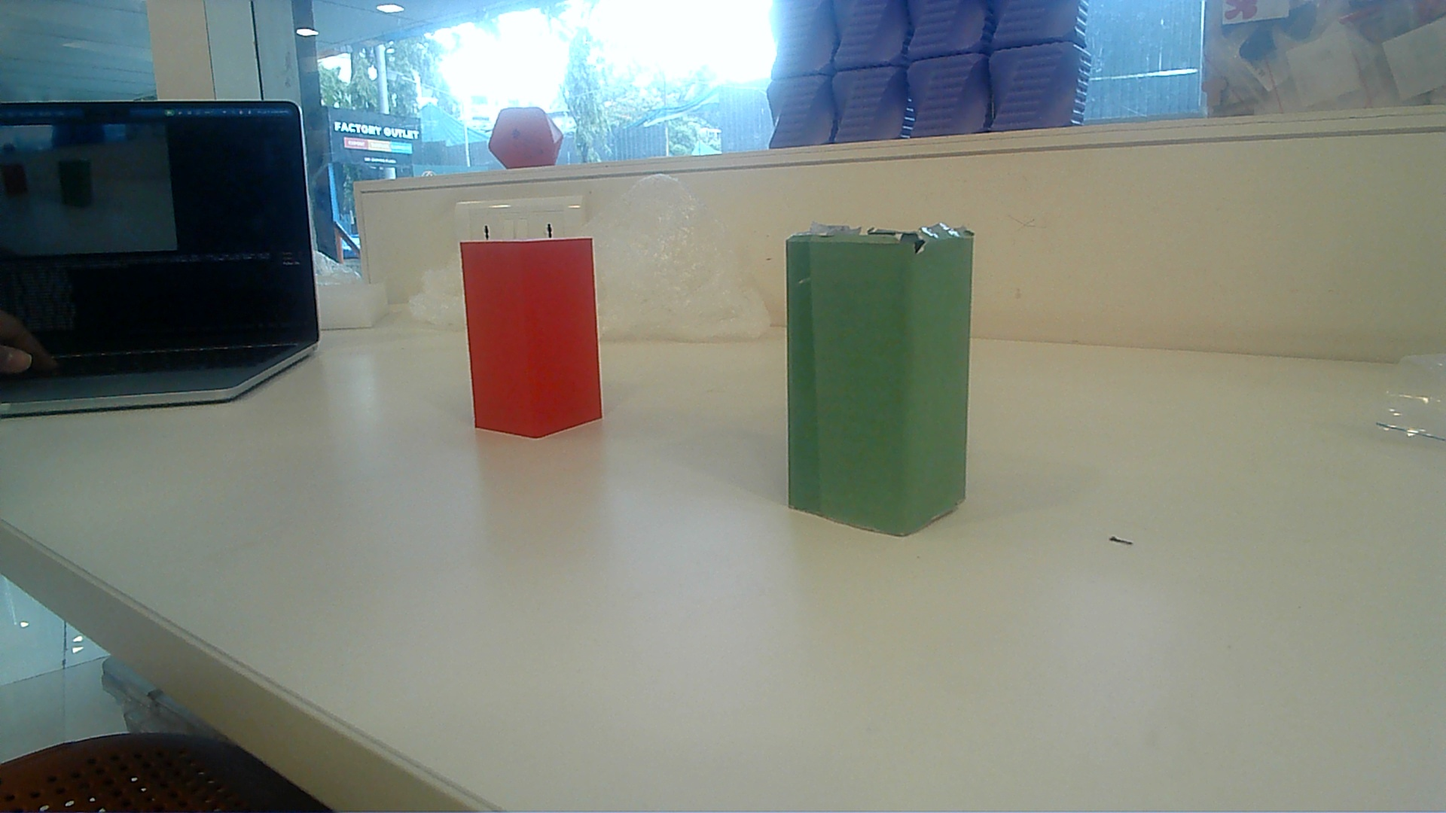green: (789, 224, 972, 538)
